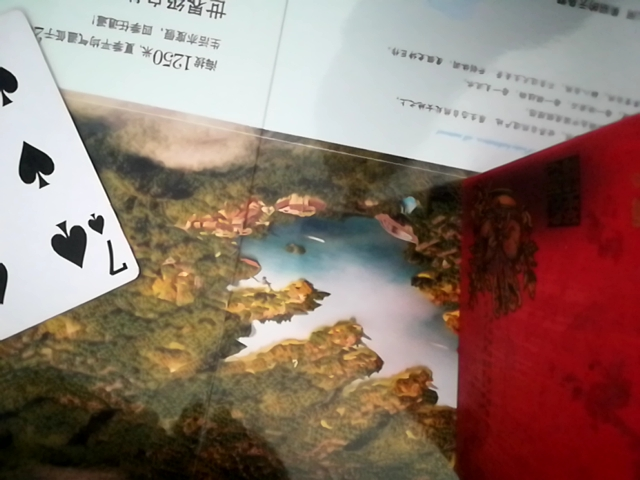ht 7: (0, 3, 131, 377)
